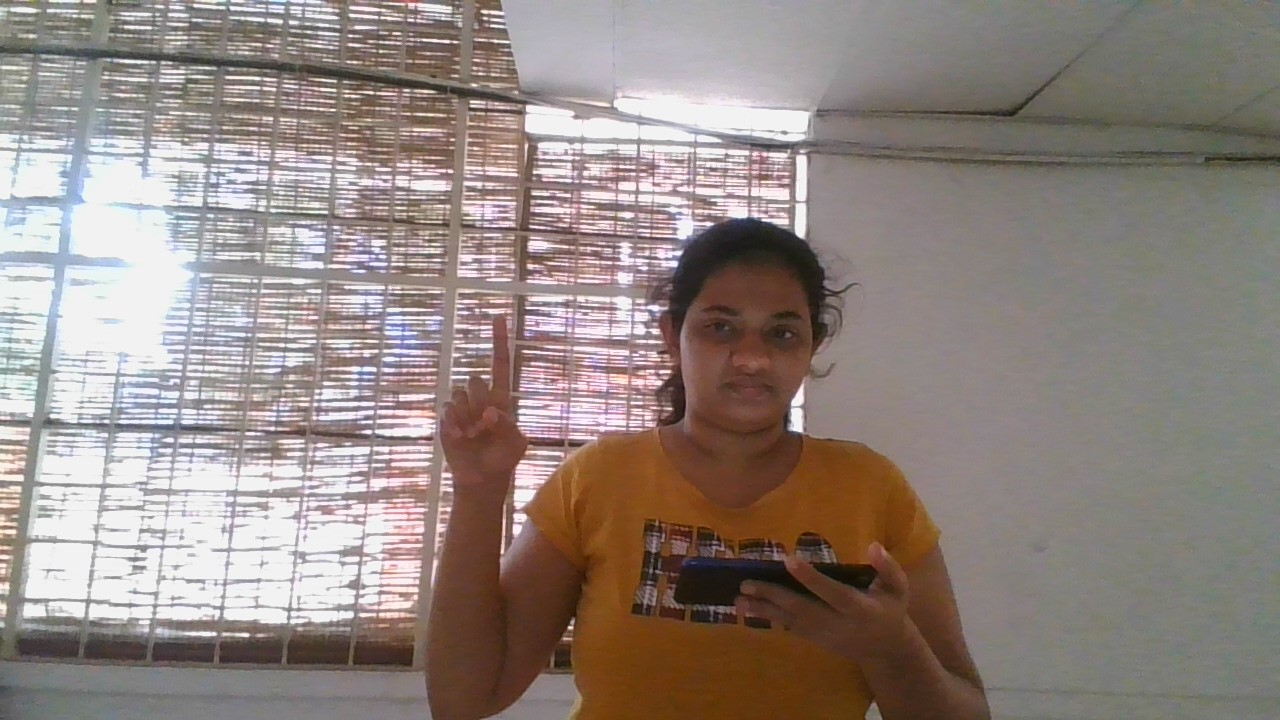d: (418, 312, 537, 498)
